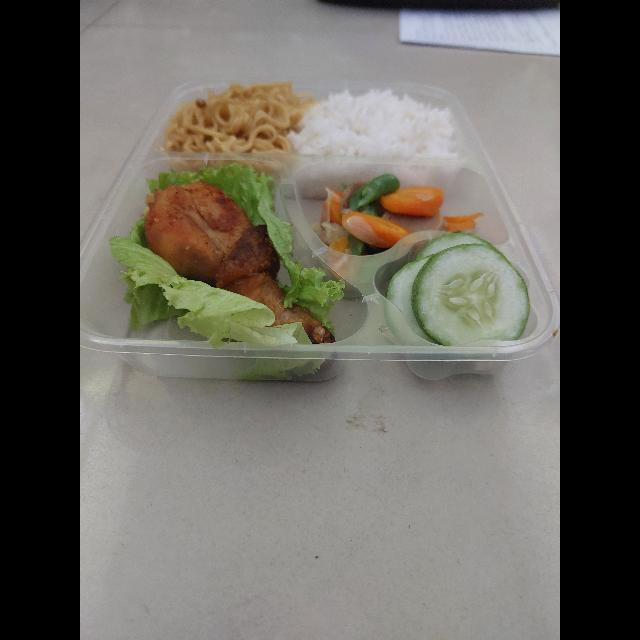bento: (81, 67, 558, 392)
